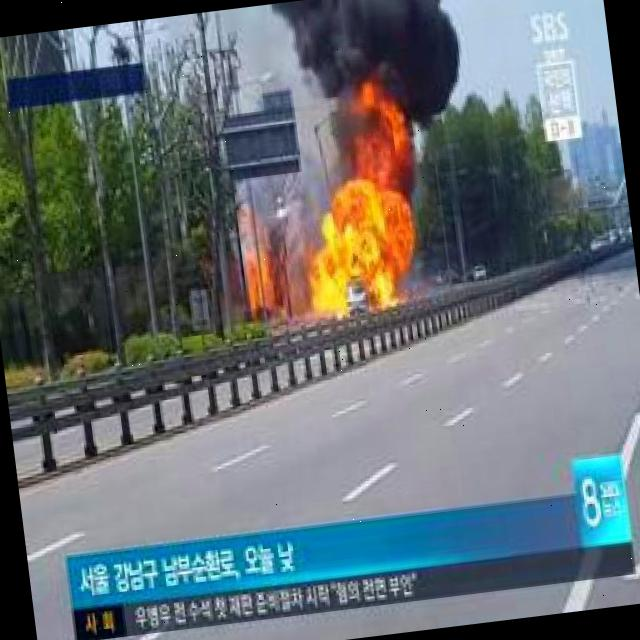fire: (333, 180, 402, 304), (309, 236, 346, 316), (243, 258, 272, 316)
